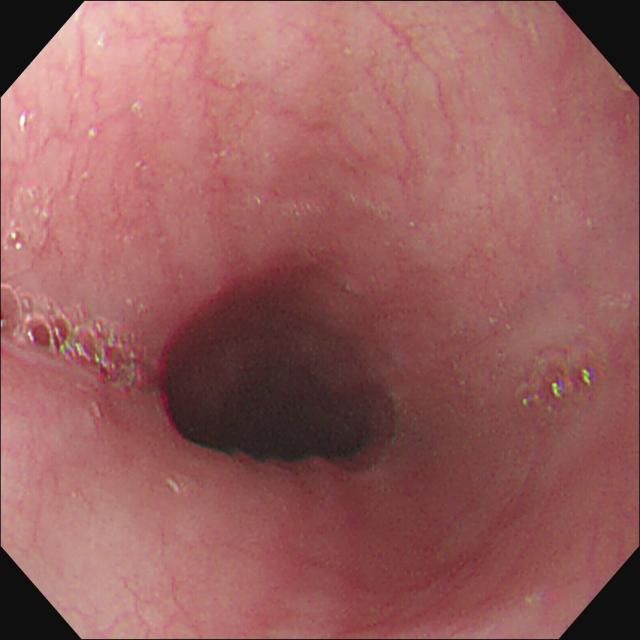E: (142, 261, 411, 495)
T: (2, 280, 142, 393), (515, 348, 605, 416), (6, 185, 54, 257)
